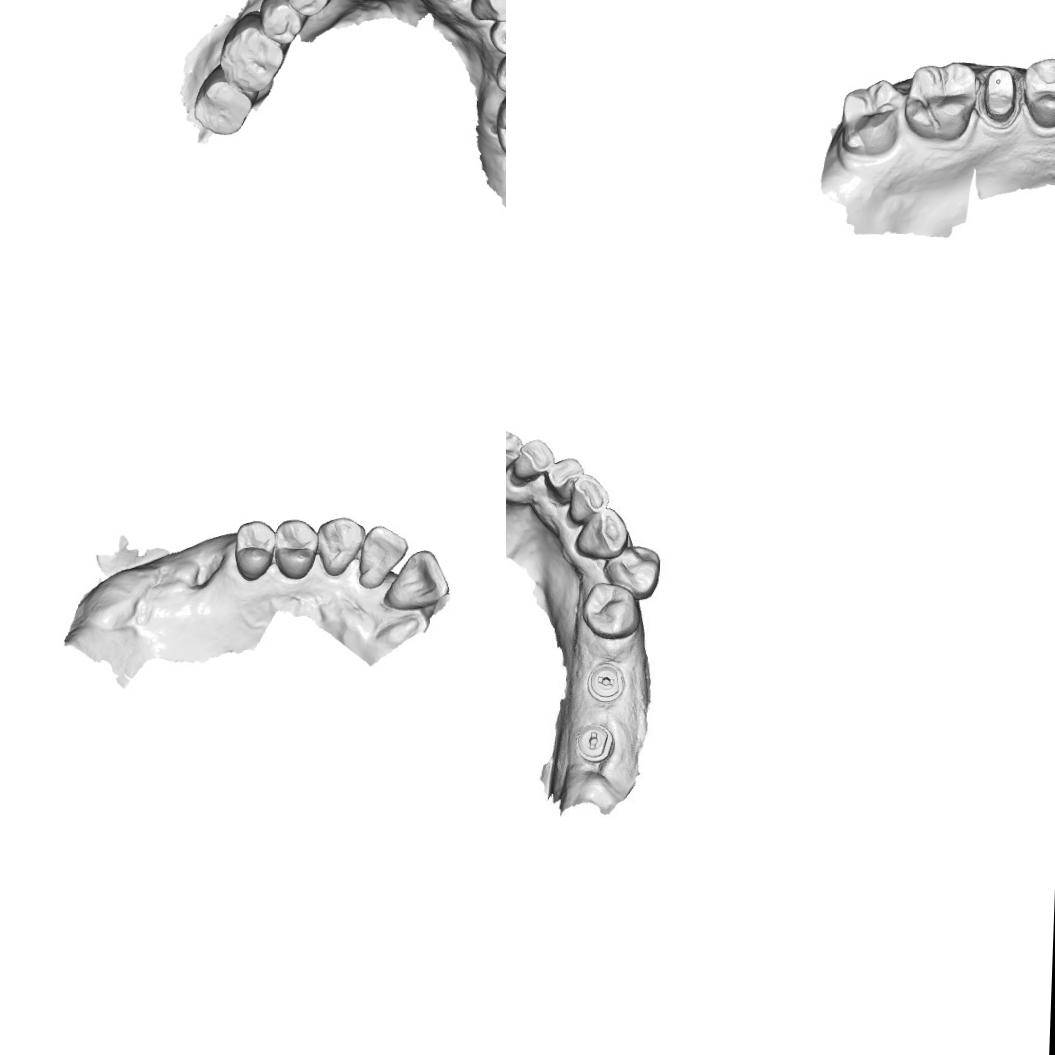canine: (315, 513, 366, 579), (574, 505, 628, 565), (184, 546, 233, 598), (469, 0, 506, 23)
crown: (978, 64, 1022, 128)
implant_minus: (573, 722, 615, 763), (586, 661, 626, 703)
incisor: (382, 546, 450, 614), (356, 522, 410, 590), (566, 470, 609, 527), (540, 454, 584, 506), (512, 436, 557, 484), (506, 426, 521, 476)
molar: (903, 60, 983, 144), (218, 8, 290, 99), (838, 75, 906, 157), (192, 62, 254, 136)
premolar: (578, 581, 644, 640), (605, 543, 662, 600), (270, 516, 318, 583), (232, 518, 276, 583), (1019, 57, 1055, 133), (257, 0, 305, 42), (487, 6, 506, 57), (286, 0, 332, 17), (493, 50, 506, 100)
